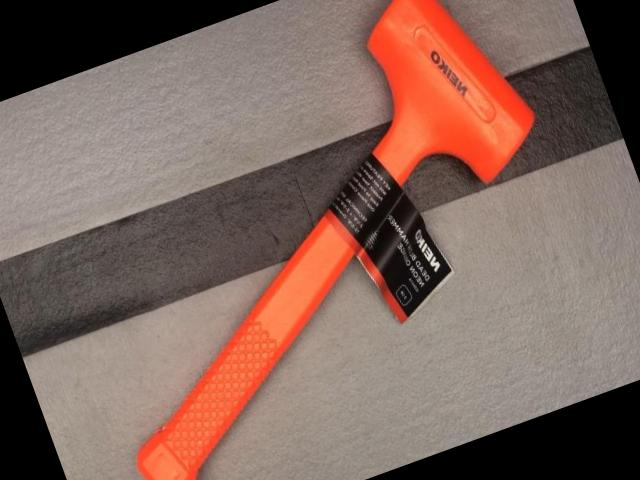hammer: (11, 0, 618, 480)
